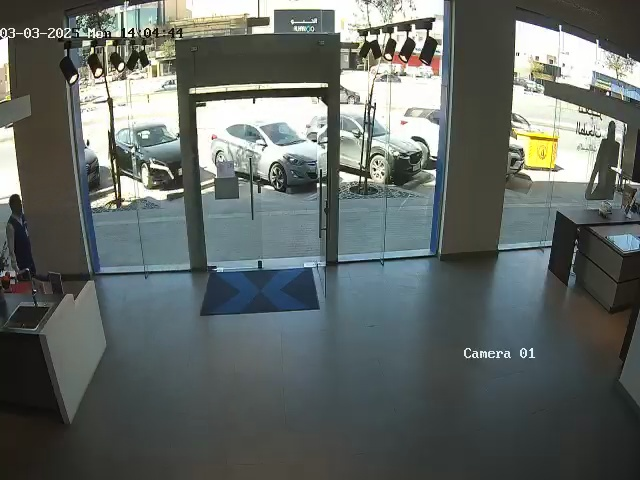employee: (5, 193, 37, 277)
